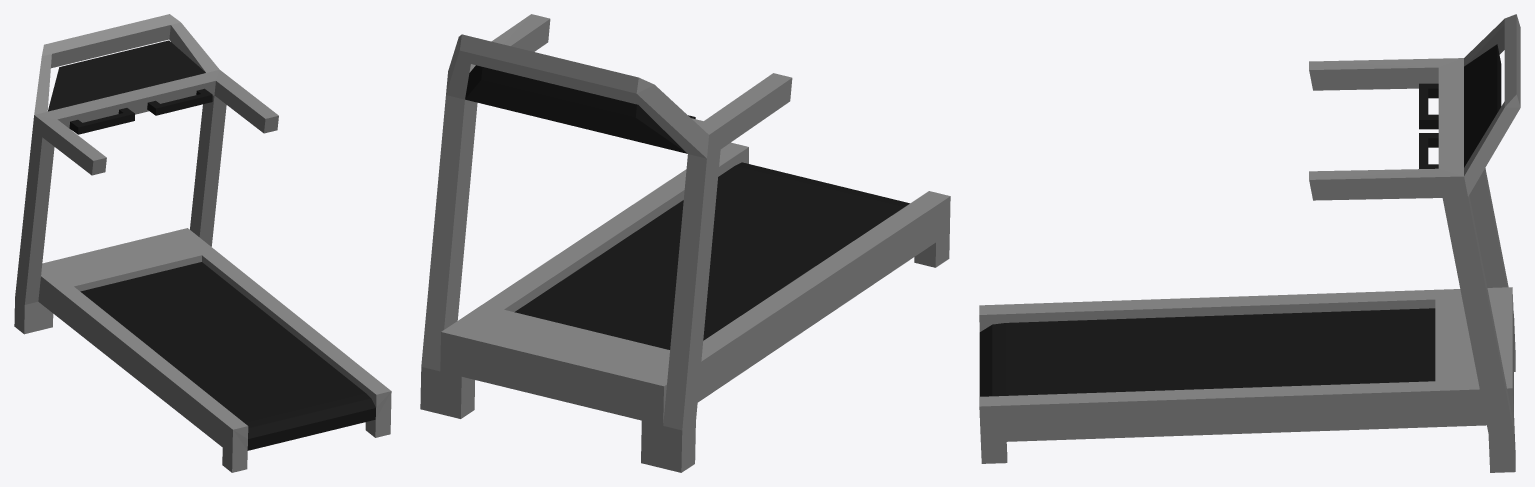
Rendered from Treadmill.glb.
3 views of the same model, side by side, from view 1: azimuth 30°, elevation 25°; view 2: azimuth 150°, elevation 25°; view 3: azimuth 270°, elevation 25° (orthographic). The views are drawn at different scales.
Parts seen in each view (by area): view 1: Treadmill; view 2: Treadmill; view 3: Treadmill.
Boxes of the visible parts, x1=… form: Treadmill: x1=14, y1=14, x2=391, y2=472; Treadmill: x1=420, y1=14, x2=950, y2=472; Treadmill: x1=979, y1=14, x2=1520, y2=472.
Bounding box in the file's own units: 0.6407 × 0.9068 × 1.24.
1 material, 1 textured.
